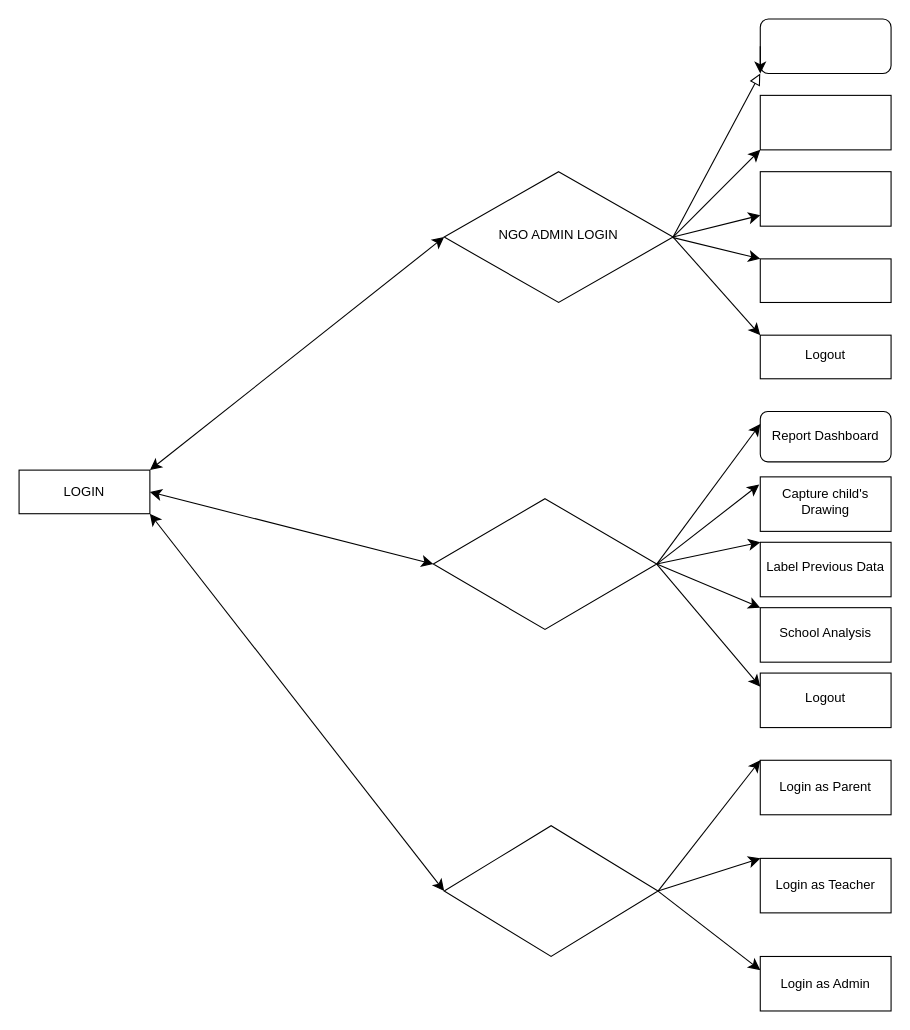
Some shapes in this 910 by 1030 pixel diagram are drawn without their labels. The centre of each missing label's shape, as x and y in pixels:
"Assign admin to School" belongs at pixel 825 280.
"Create Admin Account" belongs at pixel 825 198.
"Create Professional Account" belongs at pixel 825 122.
"Create School Account" belongs at pixel 825 46.
"PROFESSIONAL LOGIN" belongs at pixel 544 563.
"SCHOOL LOGIN" belongs at pixel 550 890.
